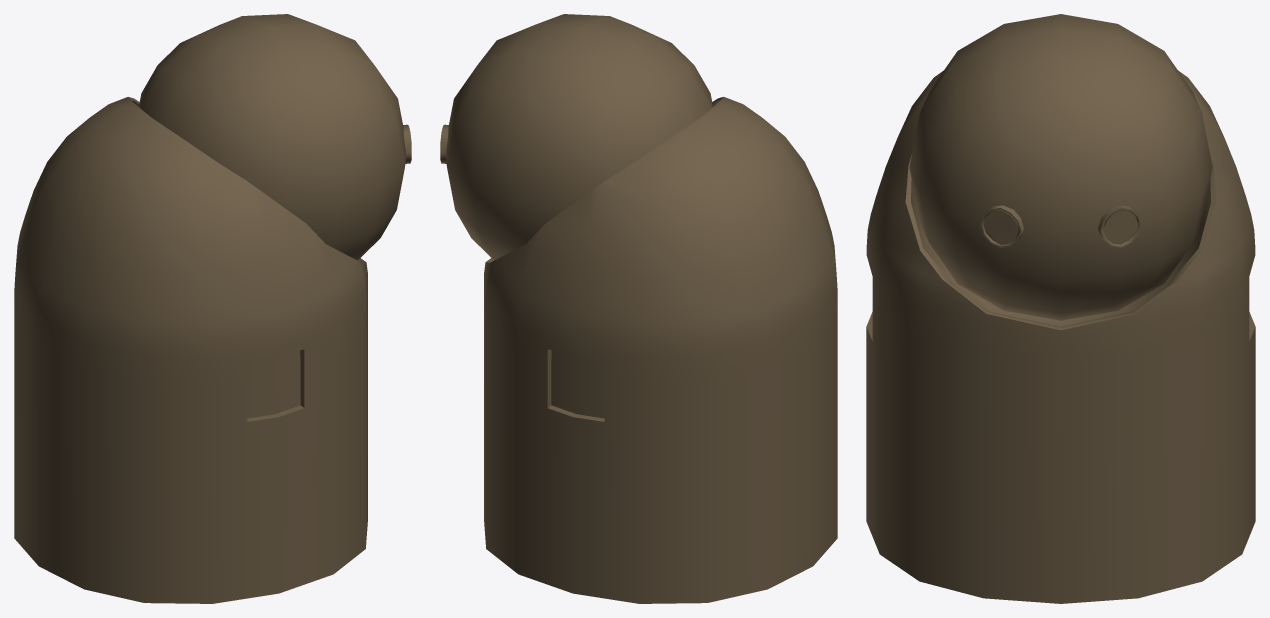
The model's file is NeirAutomata.fbx.
The picture shows the model from 3 angles, left to right: view 1: azimuth 30°, elevation 25°; view 2: azimuth 150°, elevation 25°; view 3: azimuth 270°, elevation 25°; orthographic projection. The views are drawn at different scales.
Visible parts, largest first — view 1: Chubric; view 2: Chubric; view 3: Chubric.
Part boxes in pixels (x1,y1,x2,y2): Chubric: [14, 14, 411, 603]; Chubric: [440, 14, 837, 603]; Chubric: [866, 14, 1255, 603].
Size of the model in its own units: 219 by 290 by 191.
